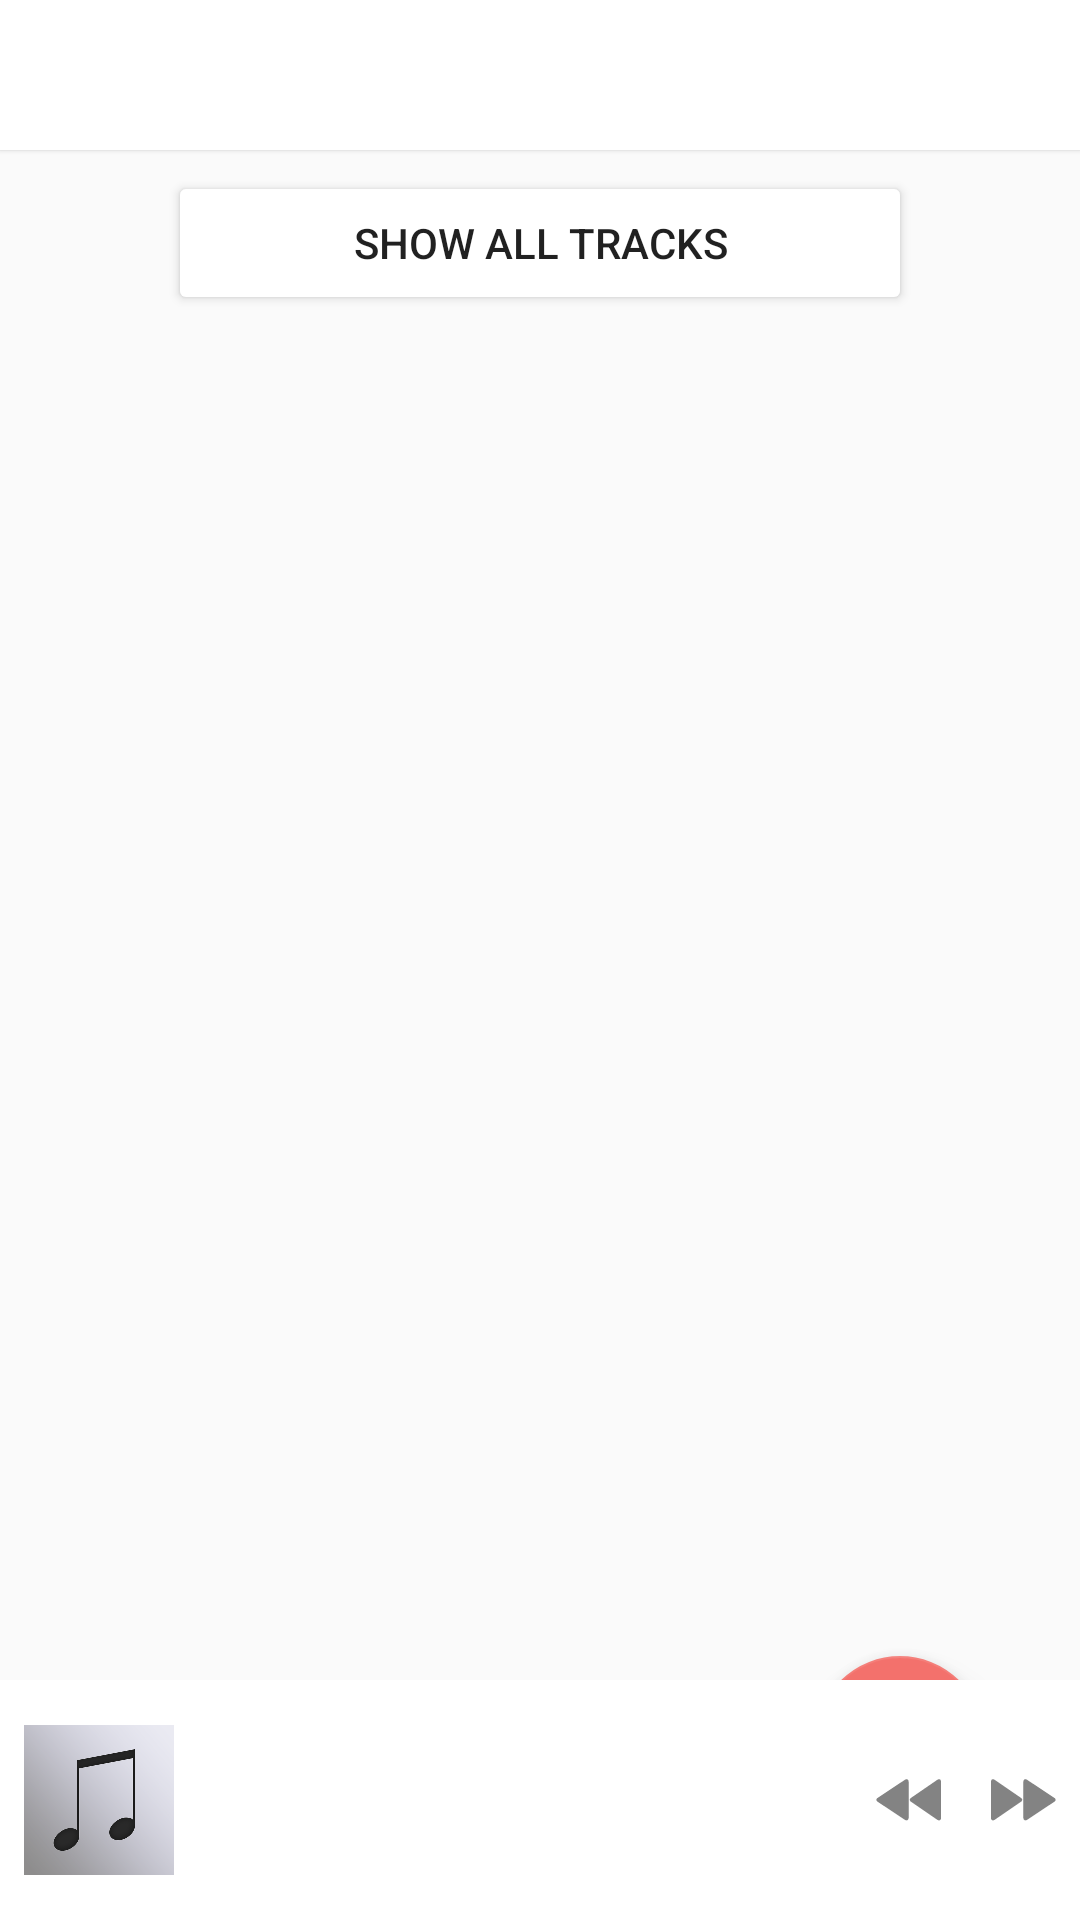

Icon click points for this 1080 x 1920 phone screenshot, format (x=x, y=y):
forward: (x=1023, y=1800)
nocover: (x=99, y=1800)
